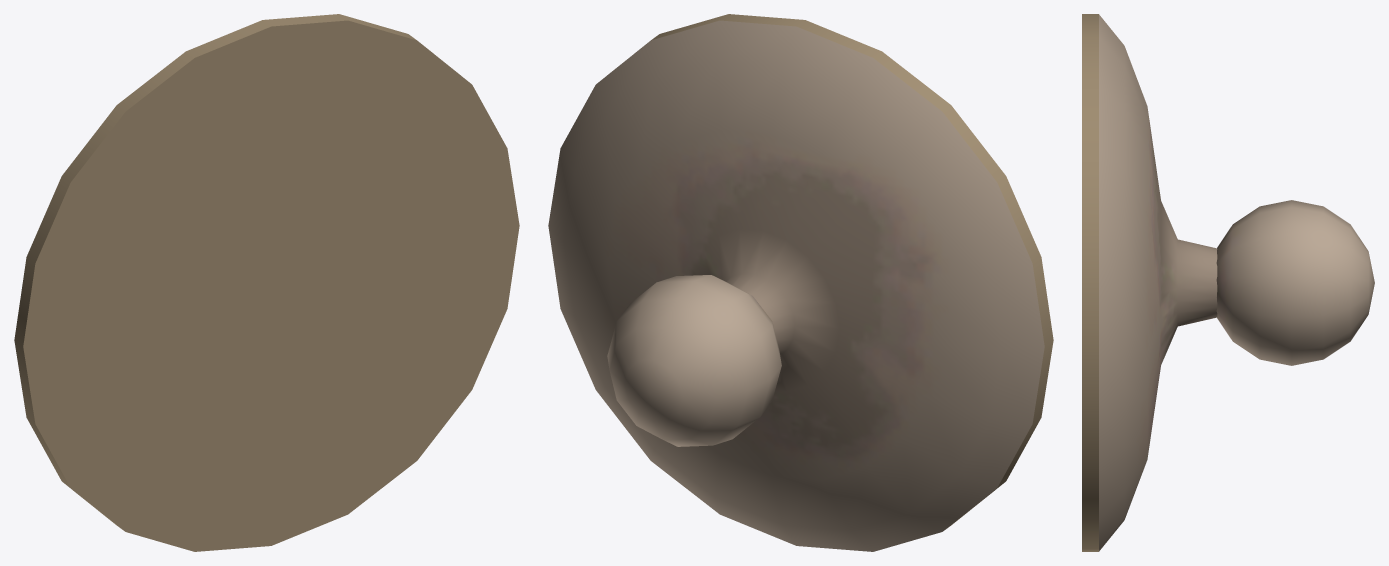
File: Pot_Tap.fbx
The picture shows the model from 3 angles, left to right: view 1: azimuth 30°, elevation 25°; view 2: azimuth 150°, elevation 25°; view 3: azimuth 270°, elevation 25°; orthographic projection. The views are drawn at different scales.
Parts seen in each view (by area): view 1: jar1Tap; view 2: jar1Tap; view 3: jar1Tap.
Boxes of the visible parts, x1,y1,x2,y2 form: jar1Tap: [14, 14, 519, 551]; jar1Tap: [548, 14, 1053, 551]; jar1Tap: [1082, 14, 1374, 551].
Bounding box in the file's own units: 184 × 184 × 99.16.
